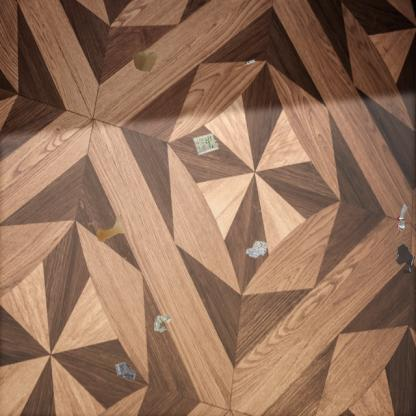dirty: (191, 131, 220, 157), (131, 50, 160, 74), (394, 202, 412, 233), (114, 360, 138, 383), (245, 240, 268, 260), (153, 313, 172, 334), (234, 57, 255, 71)
liquid: (96, 215, 124, 242), (394, 243, 416, 273)
